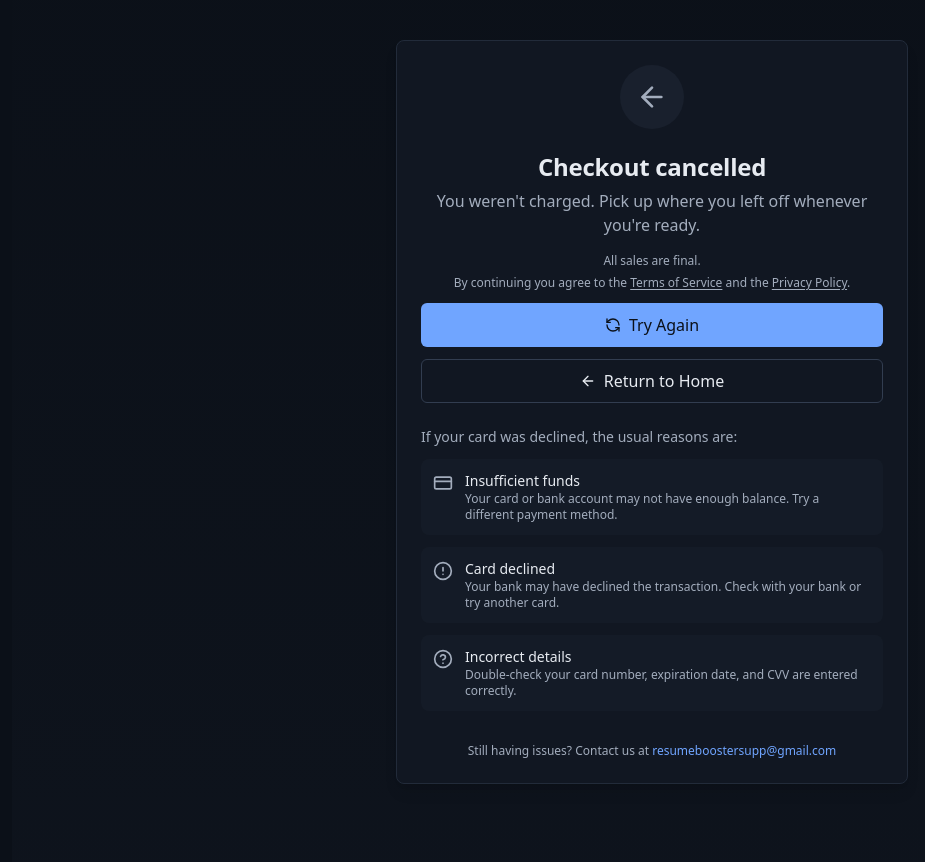
Scenario: Try again after backing out of Stripe (S8-056) › with no record of what it was bound to, goes back to buy rather than binding the tab's scan
Click the button "Try Again" at (652, 325), box [421, 303, 883, 347]
(page scrolled)
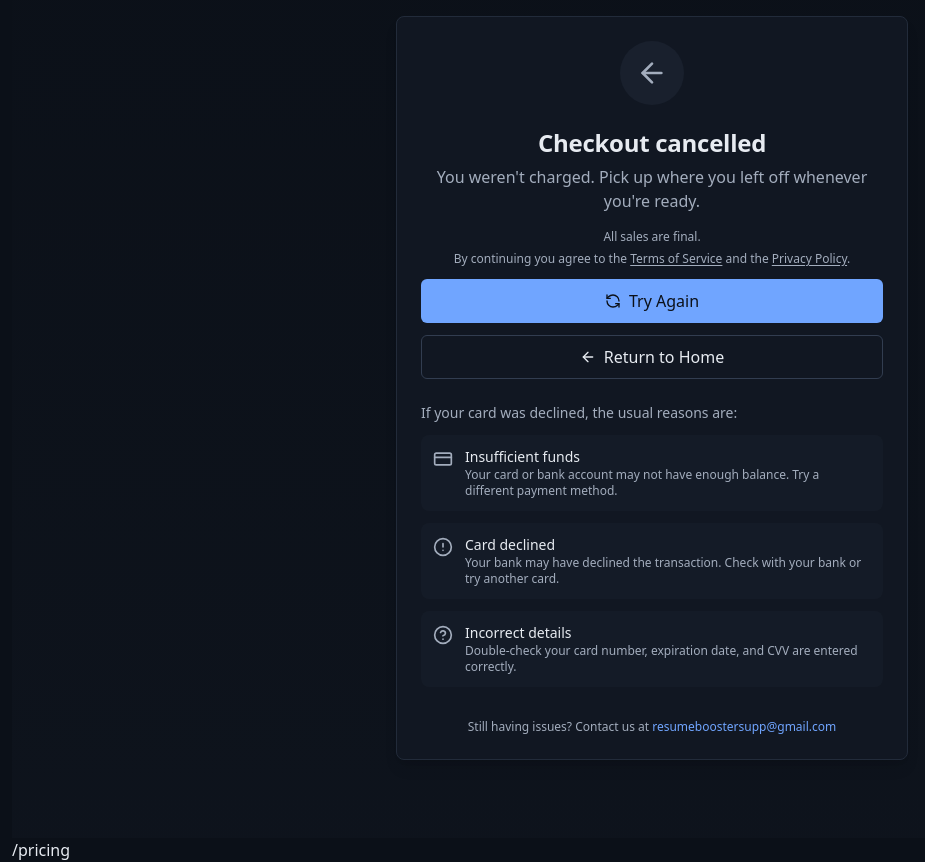
expect the text with test id "where" reads "/pricing": met, box [12, 839, 70, 861]
